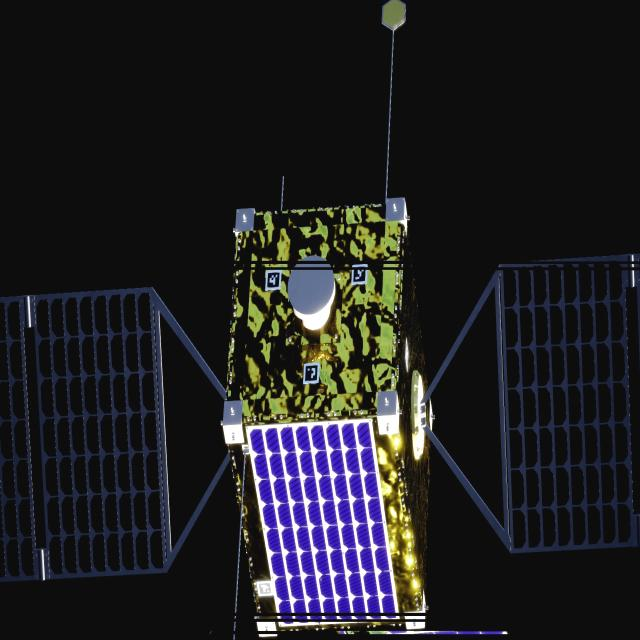satellite: (0, 198, 640, 640)
